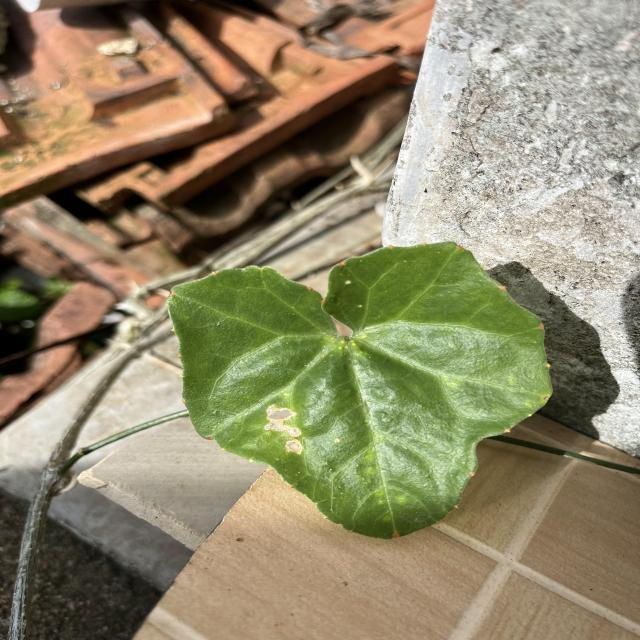Coccinia grandis: (164, 238, 558, 540)
